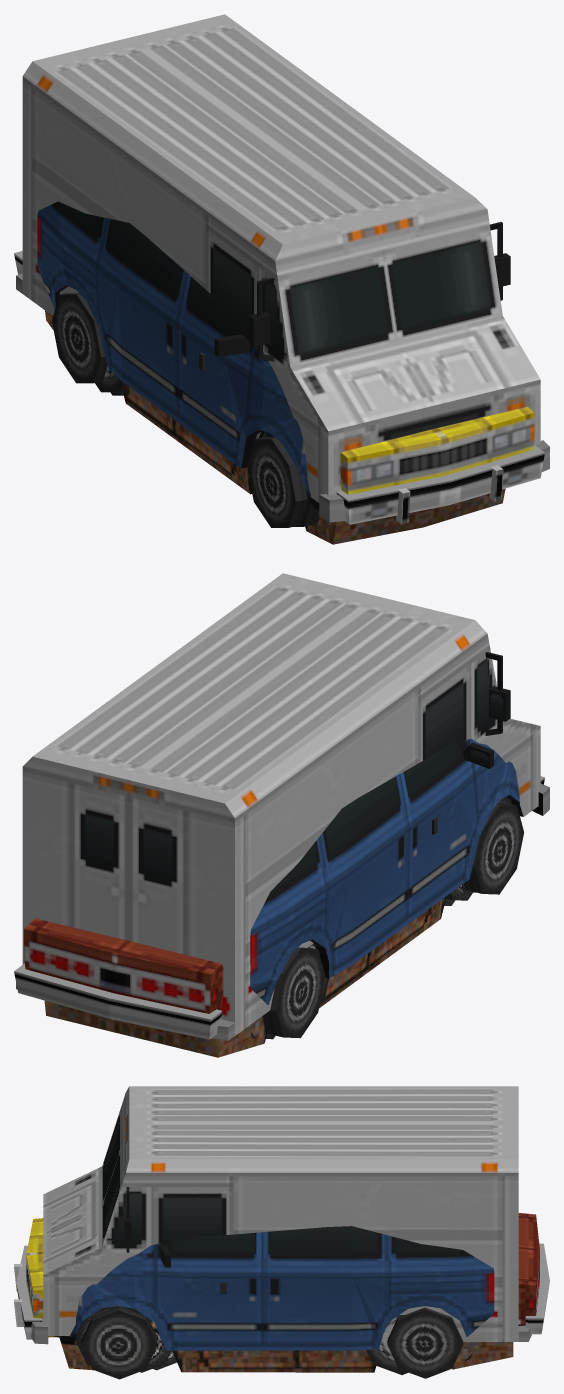
File: Vehicles_Models.fbx
3 views of the same model, one above another, from view 1: azimuth 30°, elevation 25°; view 2: azimuth 150°, elevation 25°; view 3: azimuth 270°, elevation 25° (orthographic). The views are drawn at different scales.
Visible parts, largest first — view 1: Cars_Car8, Cars_Car4, Cars_Car5_Taxi, Cars_Car6, Cars_Car5; view 2: Cars_Car8, Cars_Car4, Cars_Car5, Cars_Car6, Cars_Car5_Taxi; view 3: Cars_Car8, Cars_Car4, Cars_Car6, Cars_Car5, Cars_Car5_Taxi, Cars_Car2.
Boxes of the visible parts, bbox=[...] form: Cars_Car8: bbox=[16, 14, 549, 526]; Cars_Car4: bbox=[37, 201, 319, 527]; Cars_Car5_Taxi: bbox=[17, 254, 544, 524]; Cars_Car6: bbox=[45, 310, 505, 544]; Cars_Car5: bbox=[14, 251, 542, 524]; Cars_Car8: bbox=[16, 573, 549, 1040]; Cars_Car4: bbox=[250, 738, 523, 1038]; Cars_Car5: bbox=[14, 778, 543, 1039]; Cars_Car6: bbox=[44, 896, 446, 1057]; Cars_Car5_Taxi: bbox=[16, 776, 544, 1024]; Cars_Car8: bbox=[31, 1086, 531, 1374]; Cars_Car4: bbox=[60, 1226, 494, 1379]; Cars_Car6: bbox=[59, 1323, 513, 1372]; Cars_Car5: bbox=[14, 1213, 549, 1339]; Cars_Car5_Taxi: bbox=[16, 1218, 547, 1339]; Cars_Car2: bbox=[52, 1282, 464, 1372].
Size of the model in its own units: 2.38 by 2.26 by 5.16.
1 material, 1 textured.
